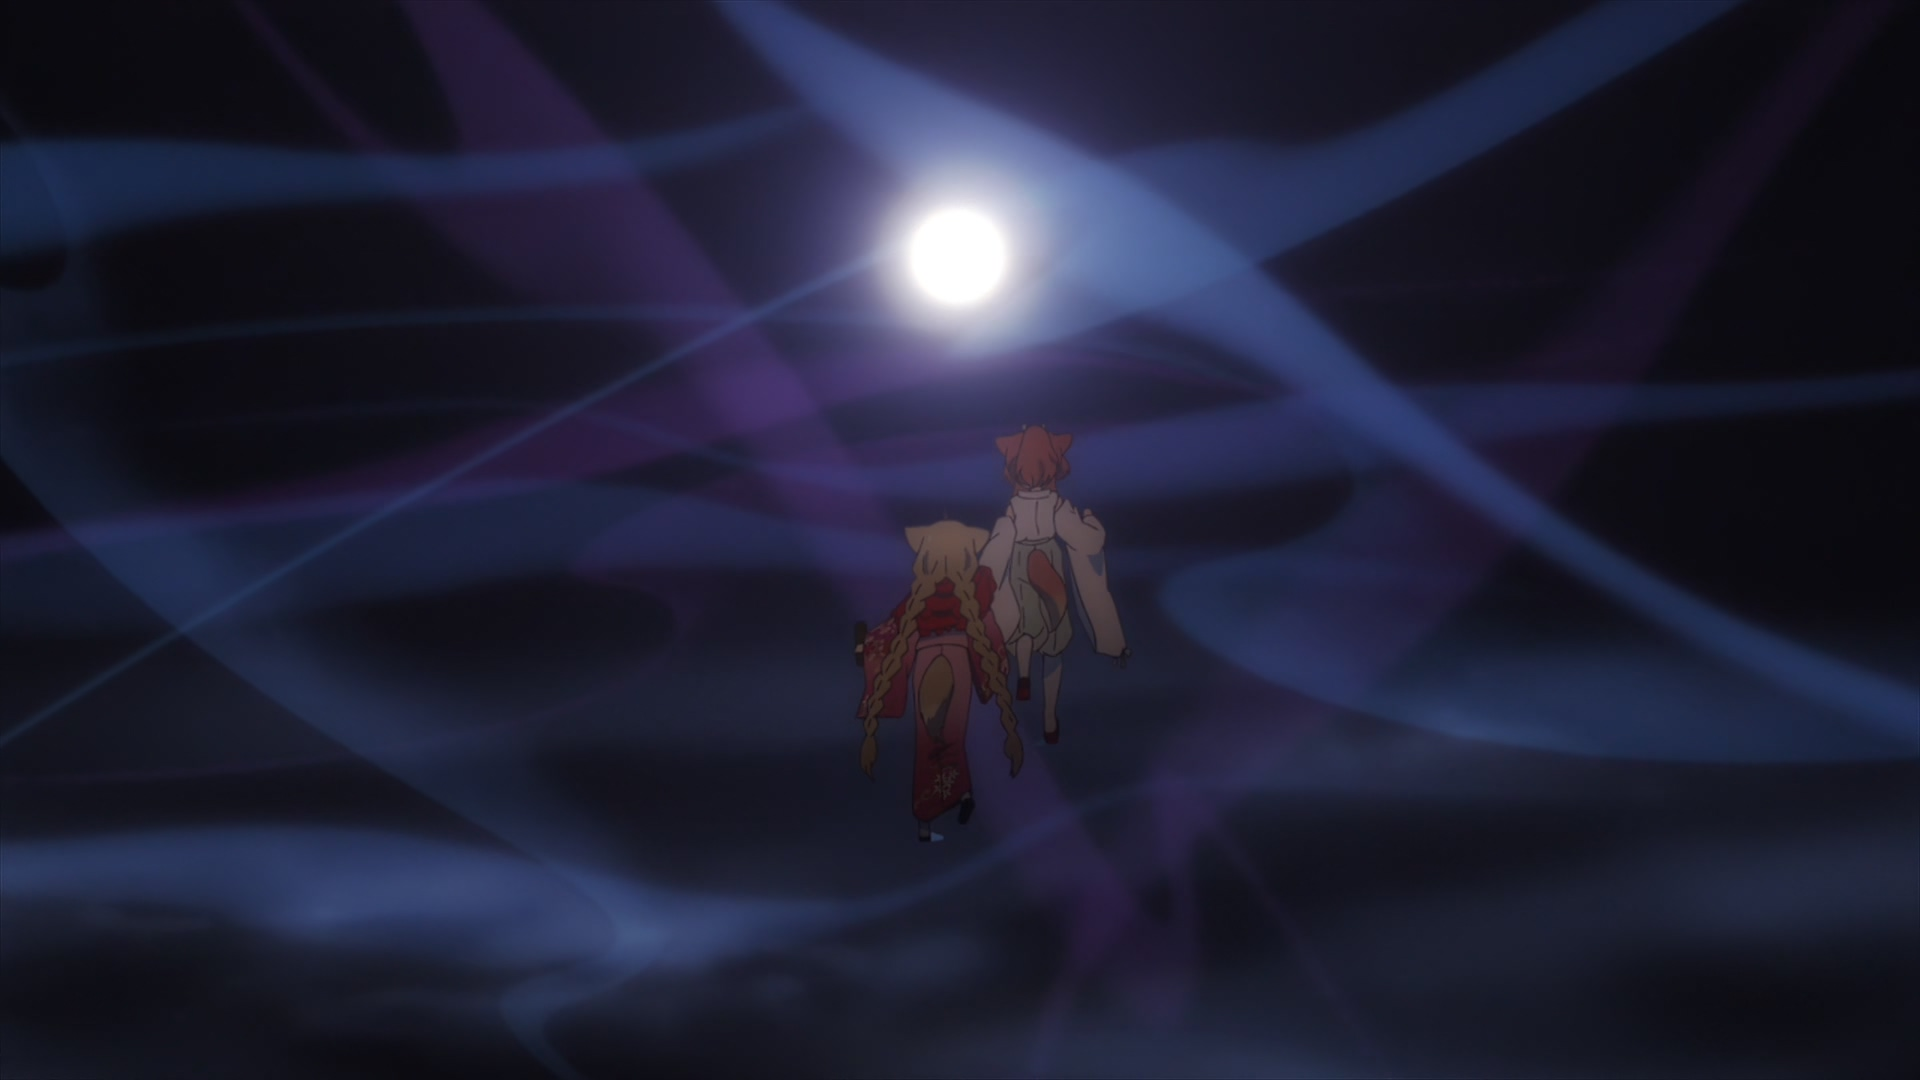柚: (856, 520, 1027, 849)
椿: (981, 425, 1130, 750)
